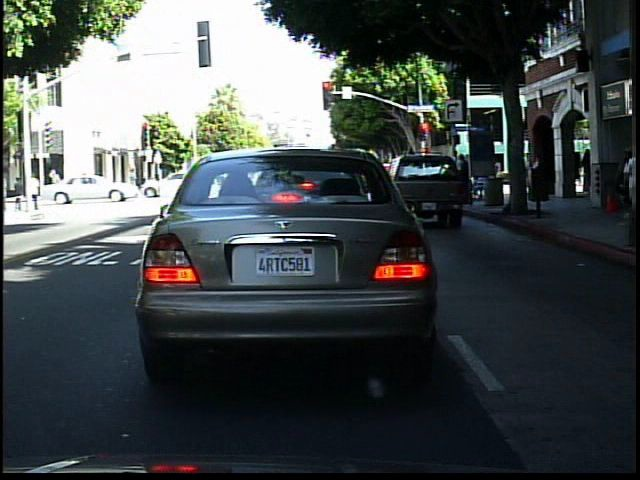person: (603, 144, 625, 222), (618, 141, 639, 219), (46, 162, 66, 201), (76, 163, 95, 203), (125, 163, 143, 197), (13, 174, 28, 212), (31, 168, 44, 211)
